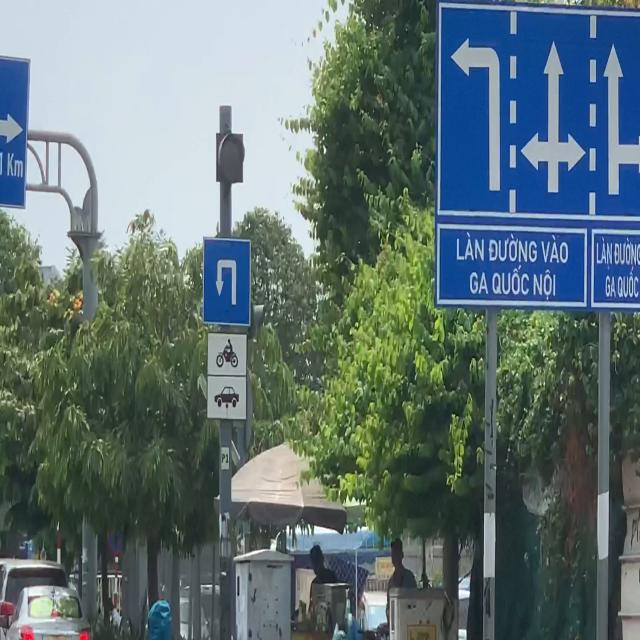Chi dan: (203, 236, 251, 327)
